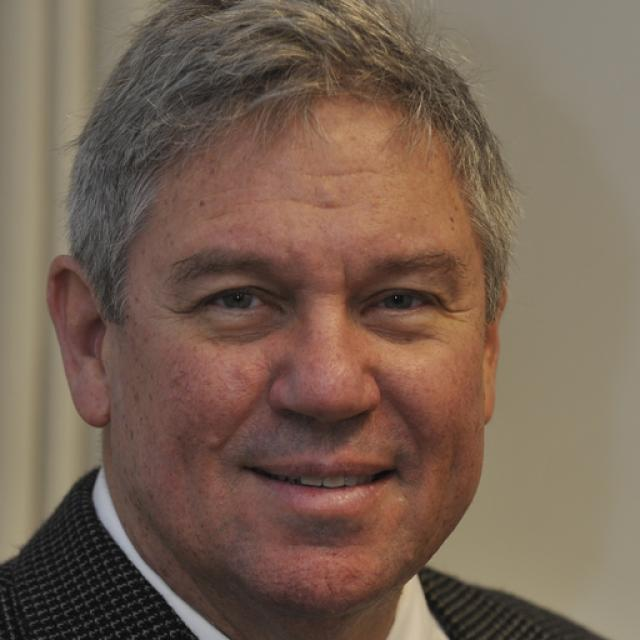Acne: (228, 362, 257, 380), (387, 222, 407, 248), (203, 433, 222, 454)
